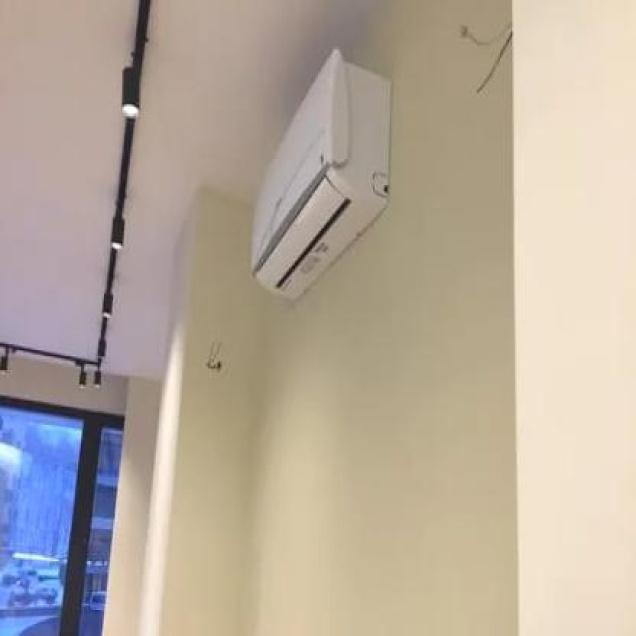AC: (248, 47, 392, 300)
